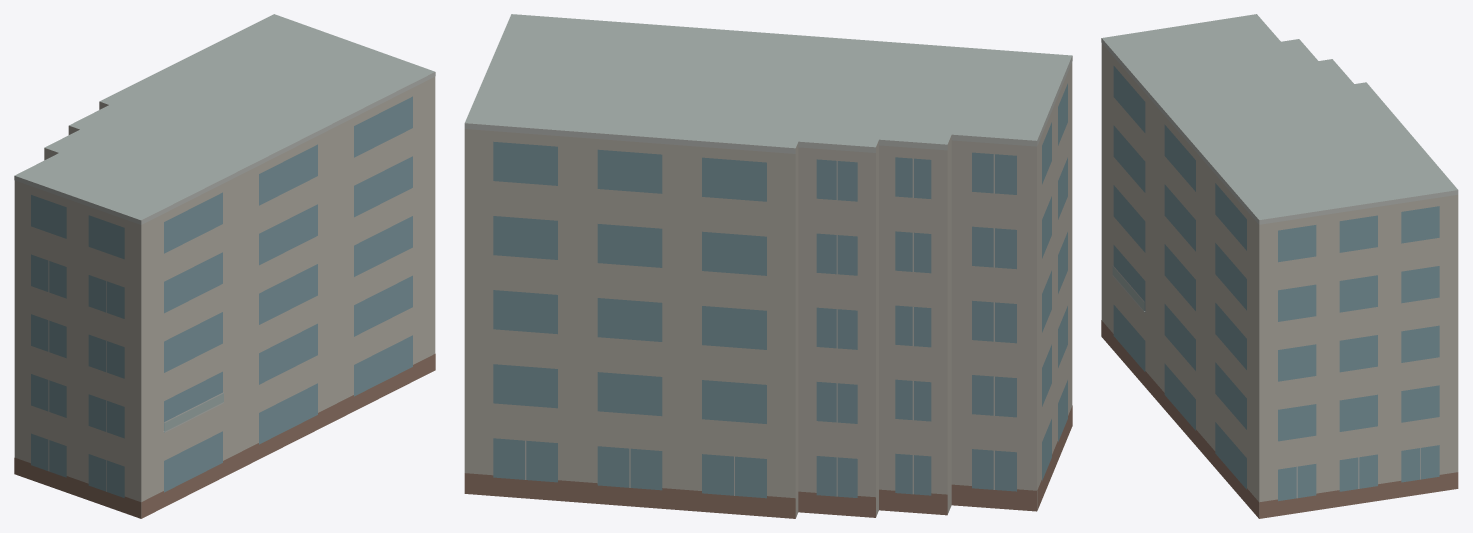
Rendered from survey-upis-32556803.glb.
3 renders of one model, left to right at view 1: azimuth 30°, elevation 25°; view 2: azimuth 150°, elevation 25°; view 3: azimuth 270°, elevation 25°, orthographic. The views are drawn at different scales.
Parts seen in each view (by area): view 1: survey-upis-32556803.tmp; view 2: survey-upis-32556803.tmp; view 3: survey-upis-32556803.tmp.
Part boxes in pixels (x1,y1,x2,y2): survey-upis-32556803.tmp: (14, 14, 435, 518); survey-upis-32556803.tmp: (464, 14, 1072, 518); survey-upis-32556803.tmp: (1101, 14, 1458, 518).
Bounding box in the file's own units: 23.25 × 15.7 × 17.01.
